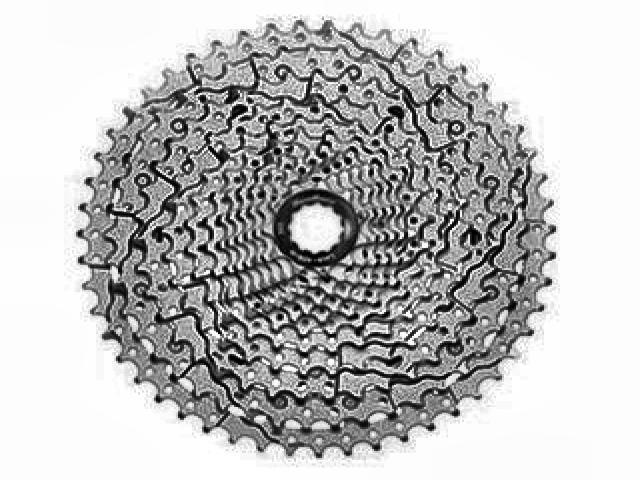cassette: (77, 17, 560, 462)
